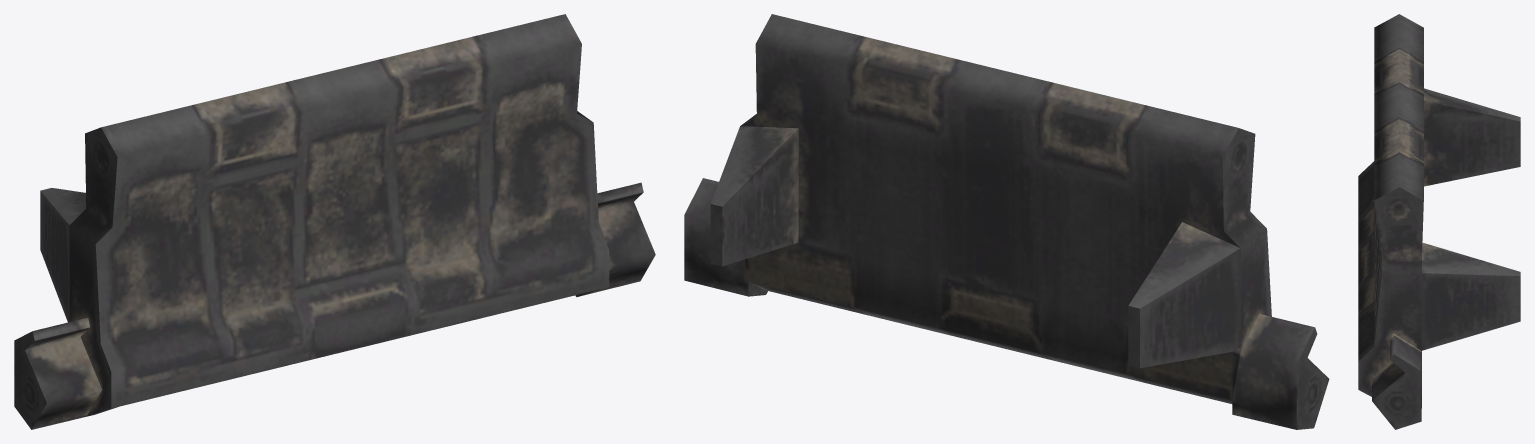
3 views of the same model, side by side, from view 1: azimuth 30°, elevation 25°; view 2: azimuth 150°, elevation 25°; view 3: azimuth 270°, elevation 25° (orthographic). The views are drawn at different scales.
Visible parts, largest first — view 1: set_0_group_0; view 2: set_0_group_0; view 3: set_0_group_0.
Boxes of the visible parts, left/top/right/bottom form: set_0_group_0: left=14, top=14, right=655, bottom=429; set_0_group_0: left=684, top=14, right=1329, bottom=429; set_0_group_0: left=1358, top=14, right=1520, bottom=429.
Size of the model in its own units: 0.38 by 0.169 by 0.1151.
1 material, 1 textured.
